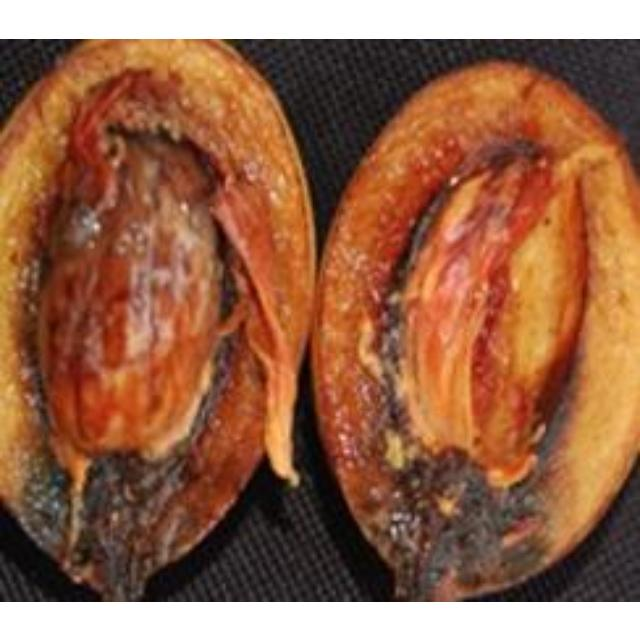damaged: (0, 38, 312, 599), (312, 62, 637, 599)
